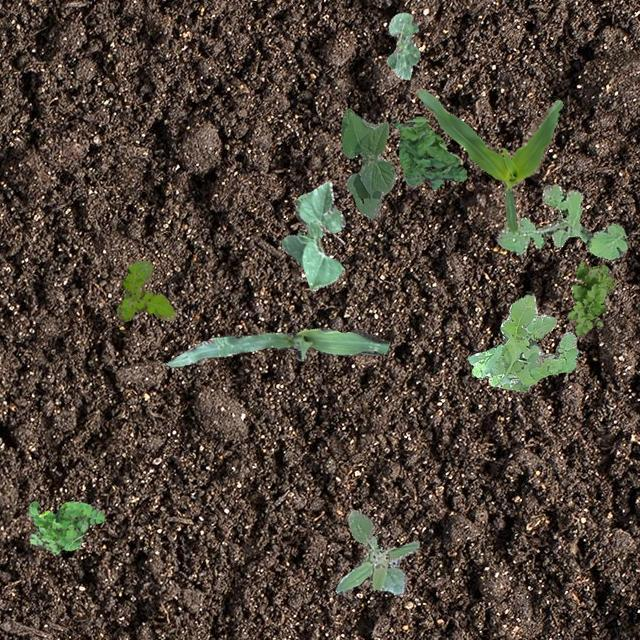crop: (414, 88, 562, 232), (164, 326, 388, 366), (280, 180, 344, 290), (341, 108, 394, 218), (386, 12, 418, 78)
weed: (466, 292, 578, 390), (496, 183, 628, 260), (334, 508, 418, 594), (390, 115, 466, 188), (28, 499, 104, 554), (566, 262, 614, 336), (115, 260, 173, 320)
